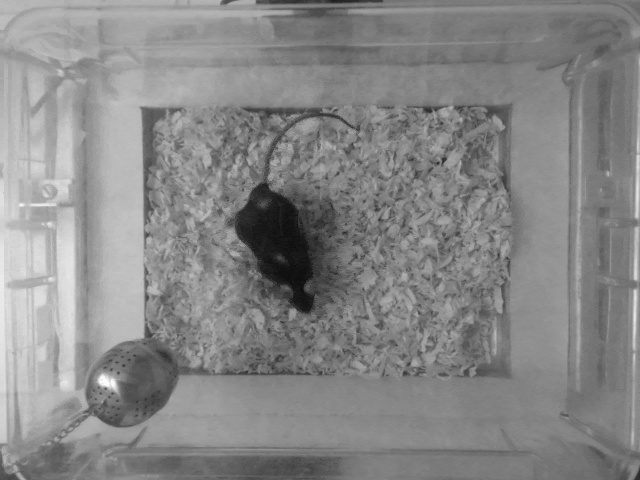mice: (224, 111, 361, 318)
